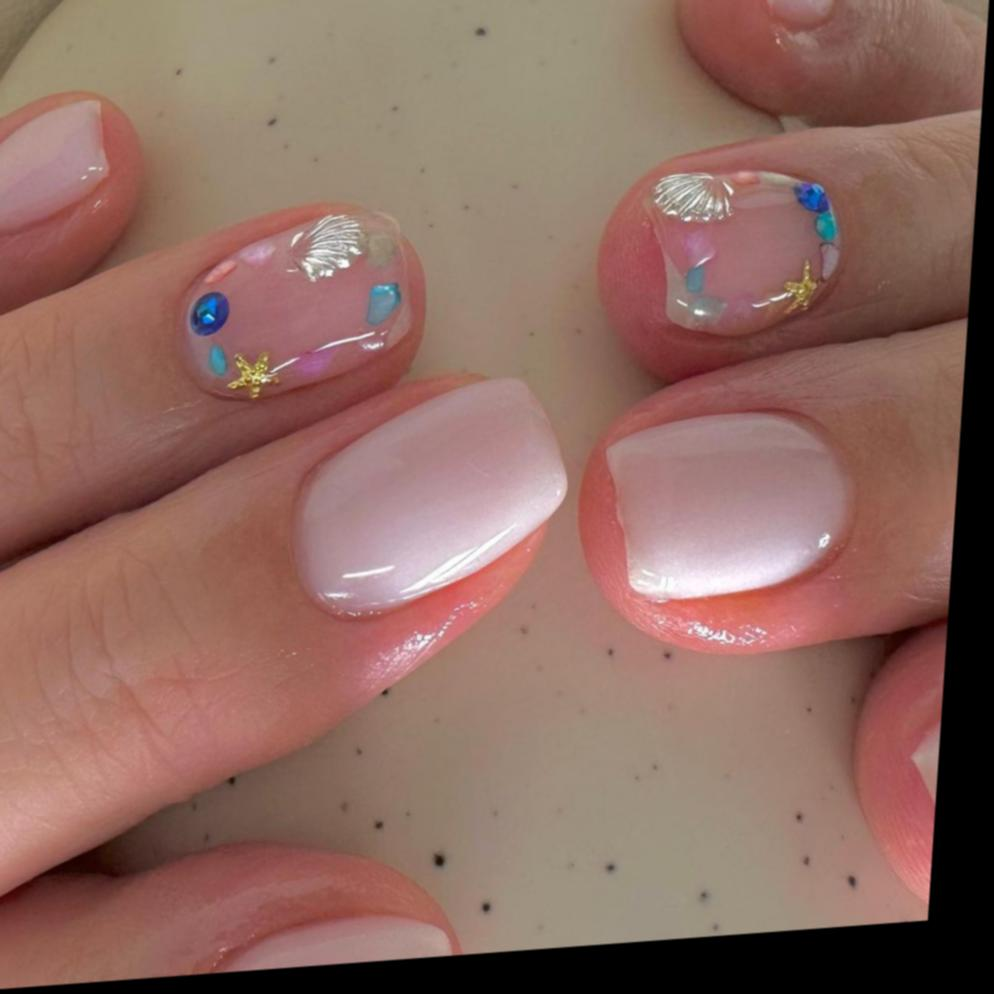nail: (282, 370, 575, 629), (592, 402, 863, 612), (169, 203, 425, 411), (631, 159, 847, 347), (840, 622, 948, 915), (193, 906, 464, 975), (0, 96, 116, 239), (764, 0, 831, 27)
